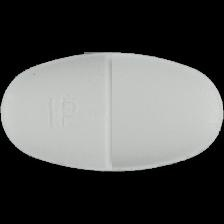52959-144: (0, 0, 224, 224)
